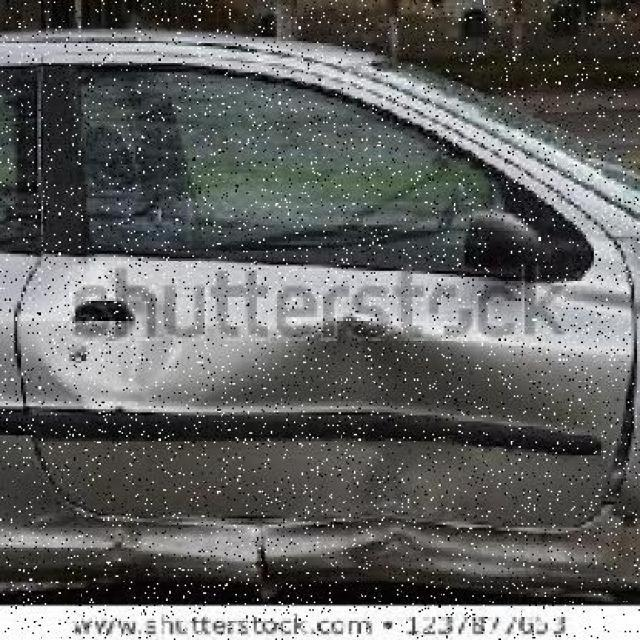car damage: (255, 423, 487, 526), (280, 303, 439, 413), (297, 524, 521, 593), (49, 294, 197, 396), (72, 524, 180, 589)
